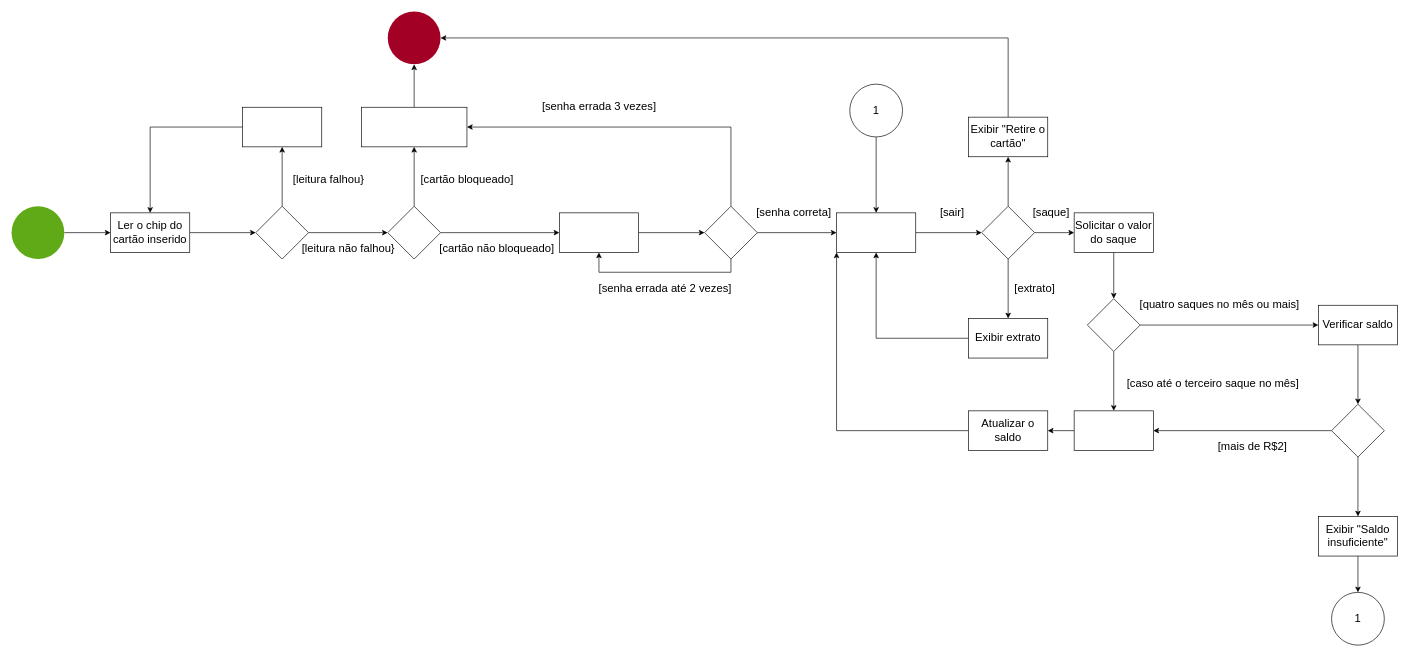
The diagram is 1409 pixels wide and 657 high, and some of its shapes have lost their labels. The shapes that lost their labels are listed below. From the top down, each one's centre as x and y in pixels, then its label:
(x=282, y=127): Exibir "Retire e insira o cartão novamente"
(x=414, y=127): Exibir "Cartão bloqueado! Procure seu gerente"
(x=599, y=232): Solicitar a senha do cartão
(x=876, y=232): Perguntar qual o serviço desejado
(x=1113, y=430): Efetuar o saque
